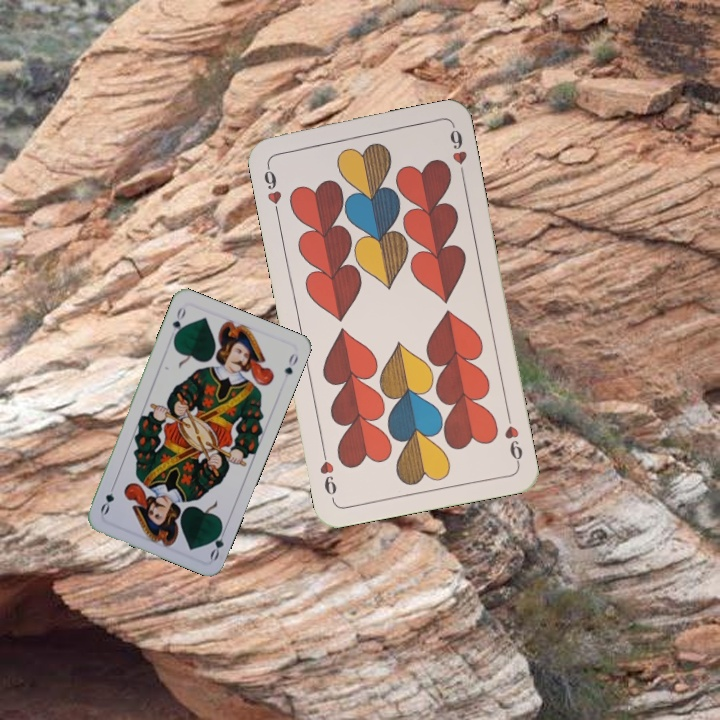GO: (206, 522, 229, 563), (168, 302, 188, 343)
H9: (500, 408, 525, 467), (259, 159, 284, 218)
